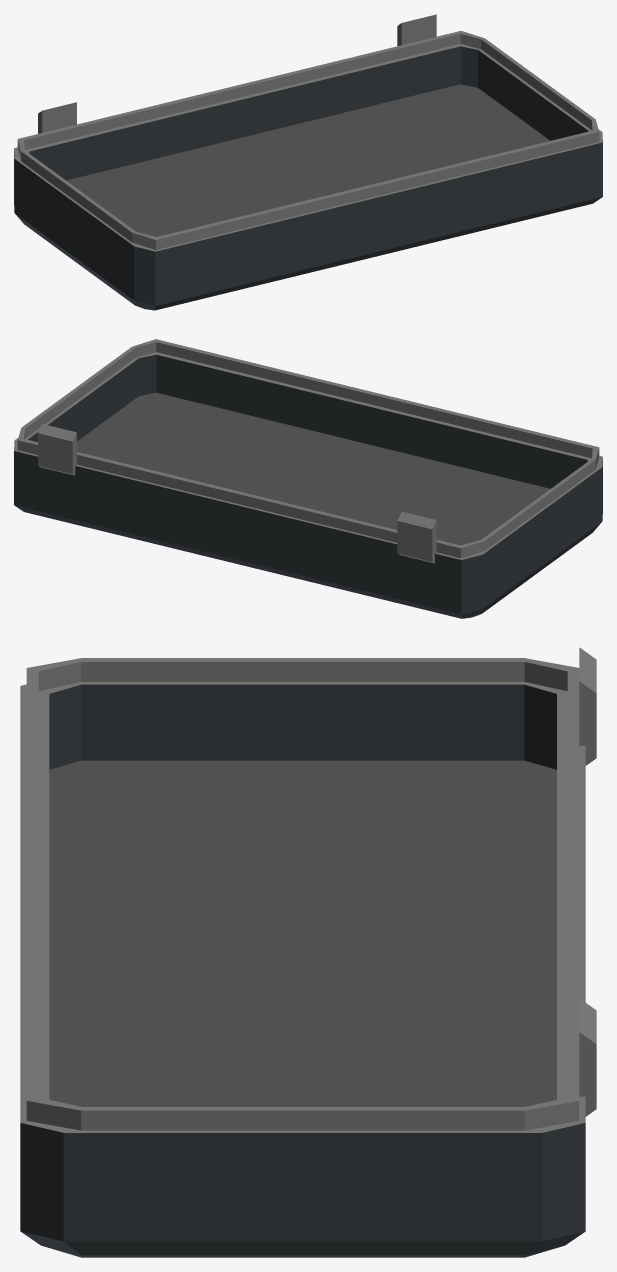
The model's file is SM_Prop_WeaponCase_01.glb.
The picture shows the model from 3 angles, top to bottom: view 1: azimuth 30°, elevation 25°; view 2: azimuth 150°, elevation 25°; view 3: azimuth 270°, elevation 25°; orthographic projection. The views are drawn at different scales.
Parts seen in each view (by area): view 1: SM_Prop_WeaponCase_01; view 2: SM_Prop_WeaponCase_01; view 3: SM_Prop_WeaponCase_01.
Boxes of the visible parts, x1=… form: SM_Prop_WeaponCase_01: x1=14, y1=14, x2=602, y2=310; SM_Prop_WeaponCase_01: x1=14, y1=339, x2=602, y2=618; SM_Prop_WeaponCase_01: x1=20, y1=647, x2=596, y2=1257.
Size of the model in its own units: 0.7268 by 0.1514 by 0.3873.
1 material, 1 textured.
